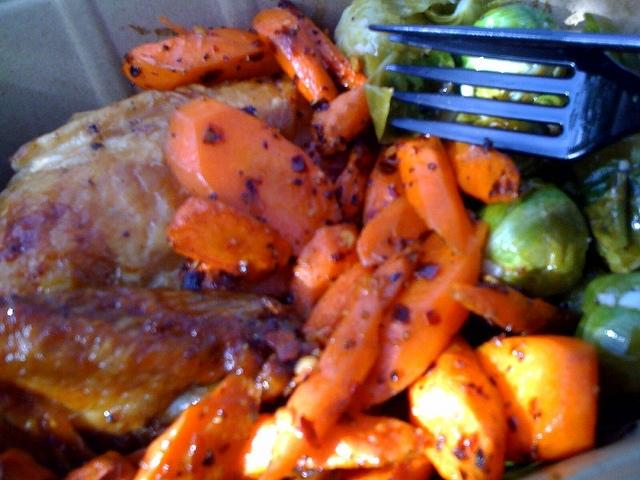brussels sprouts: (334, 1, 458, 145), (478, 180, 591, 296), (581, 133, 640, 274), (463, 5, 562, 76), (573, 306, 640, 376), (582, 14, 628, 68)
carrot: (166, 97, 342, 256), (244, 277, 382, 477), (346, 220, 488, 412), (474, 335, 600, 462), (407, 334, 507, 480), (136, 372, 262, 480), (167, 196, 295, 281), (124, 26, 286, 91), (251, 6, 339, 110), (397, 138, 472, 257), (288, 416, 426, 478), (452, 282, 582, 336), (290, 222, 360, 322), (283, 8, 367, 90), (300, 261, 378, 346), (357, 198, 446, 266), (440, 138, 520, 202), (312, 86, 372, 154), (362, 144, 404, 226), (334, 144, 376, 218), (63, 448, 137, 479), (0, 447, 61, 480)
